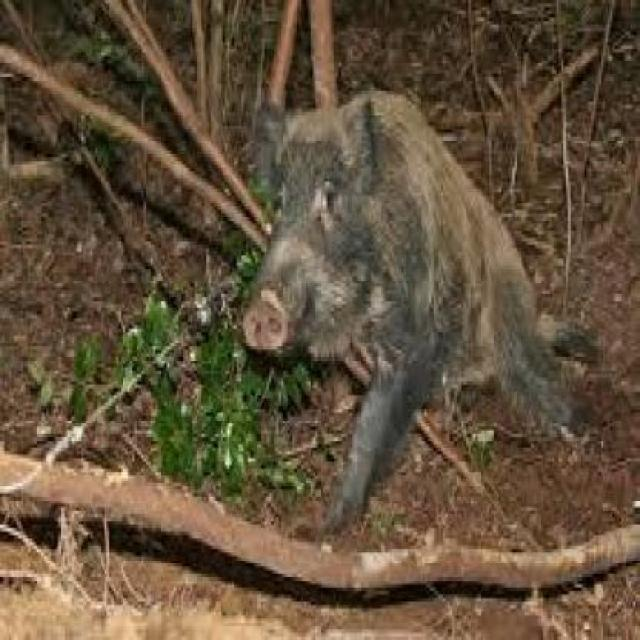wildboar: (228, 69, 602, 553)
